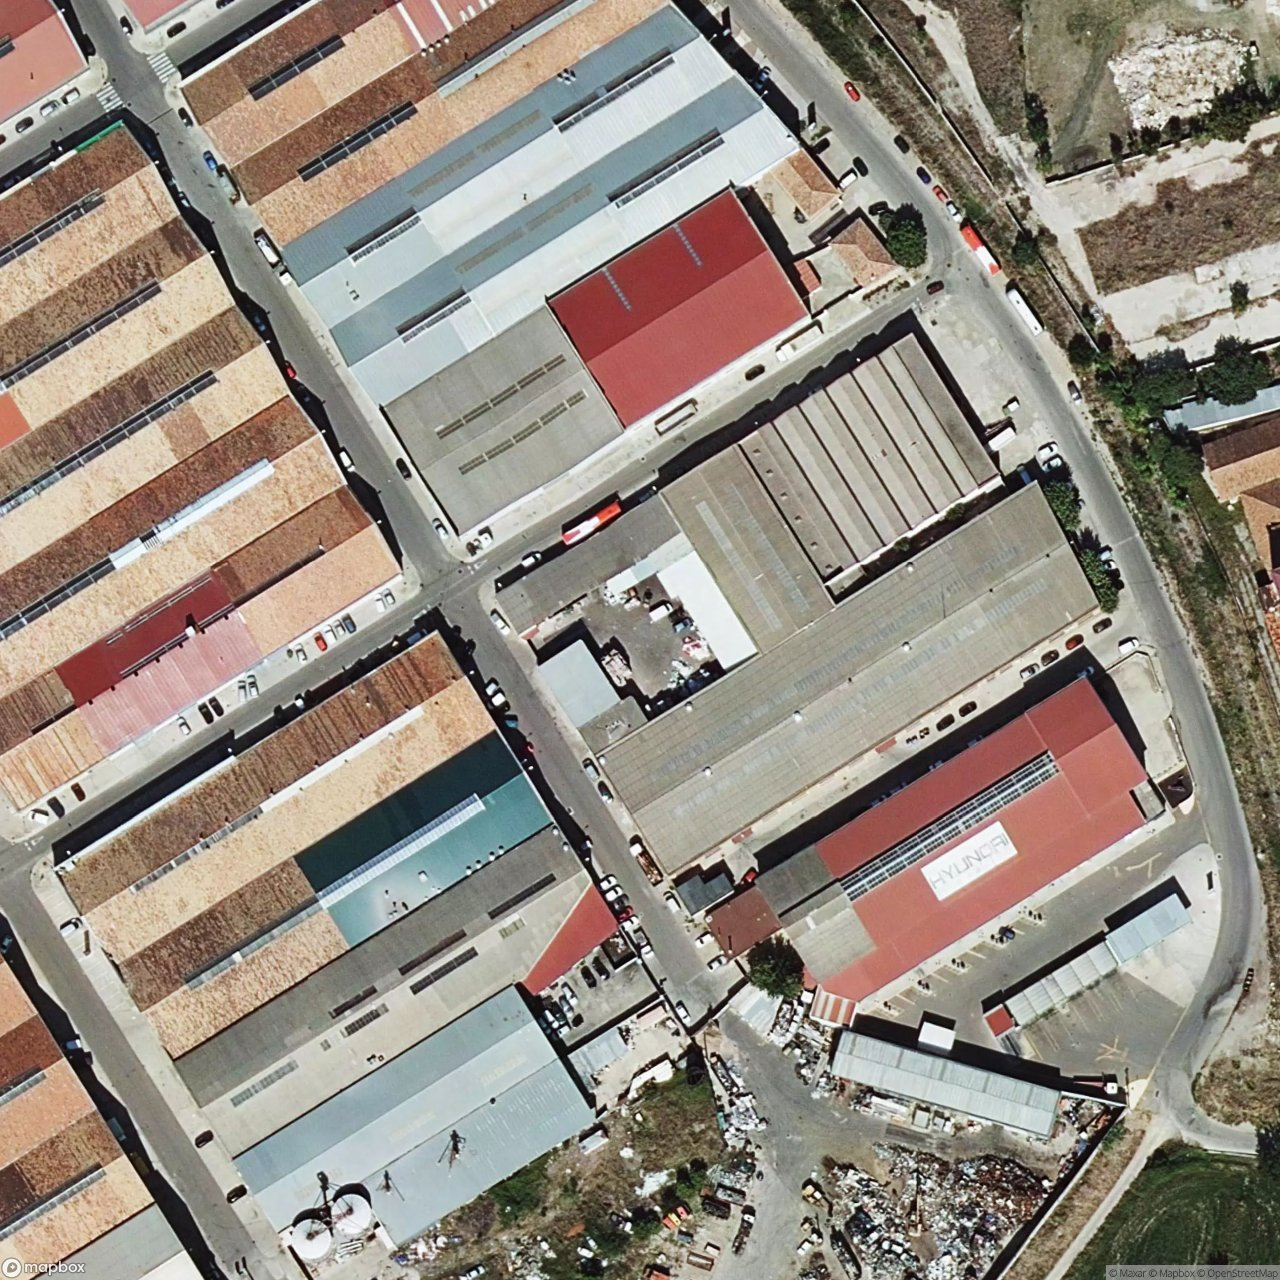dump_site: (814, 1134, 1046, 1280), (1100, 15, 1273, 142)
